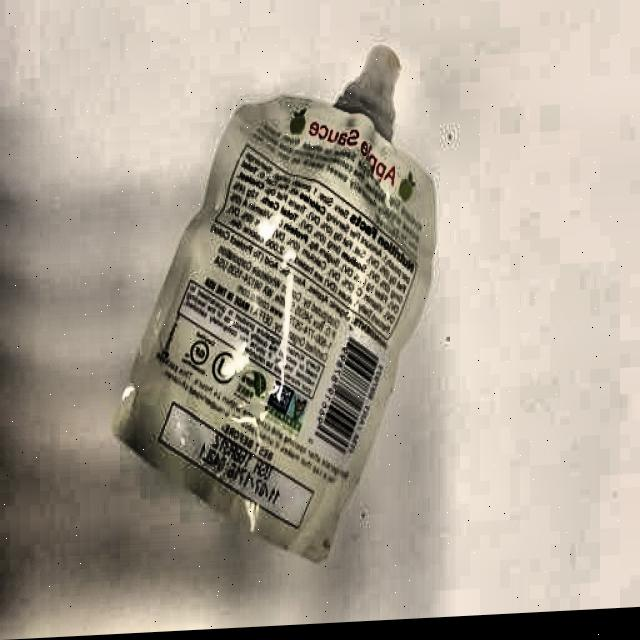plastic: (110, 42, 437, 575)
